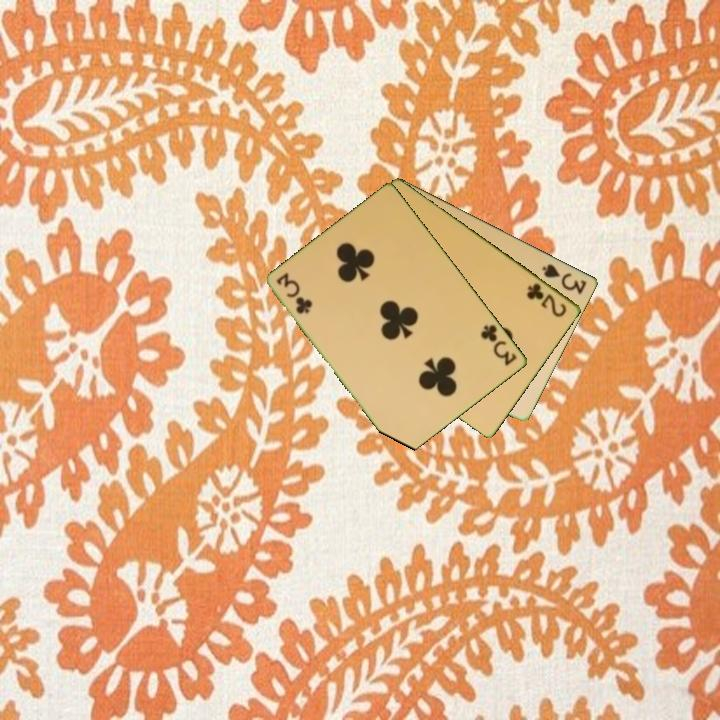2c: (524, 279, 570, 320)
3c: (477, 321, 520, 369), (273, 270, 315, 317)
3s: (539, 260, 590, 297)
